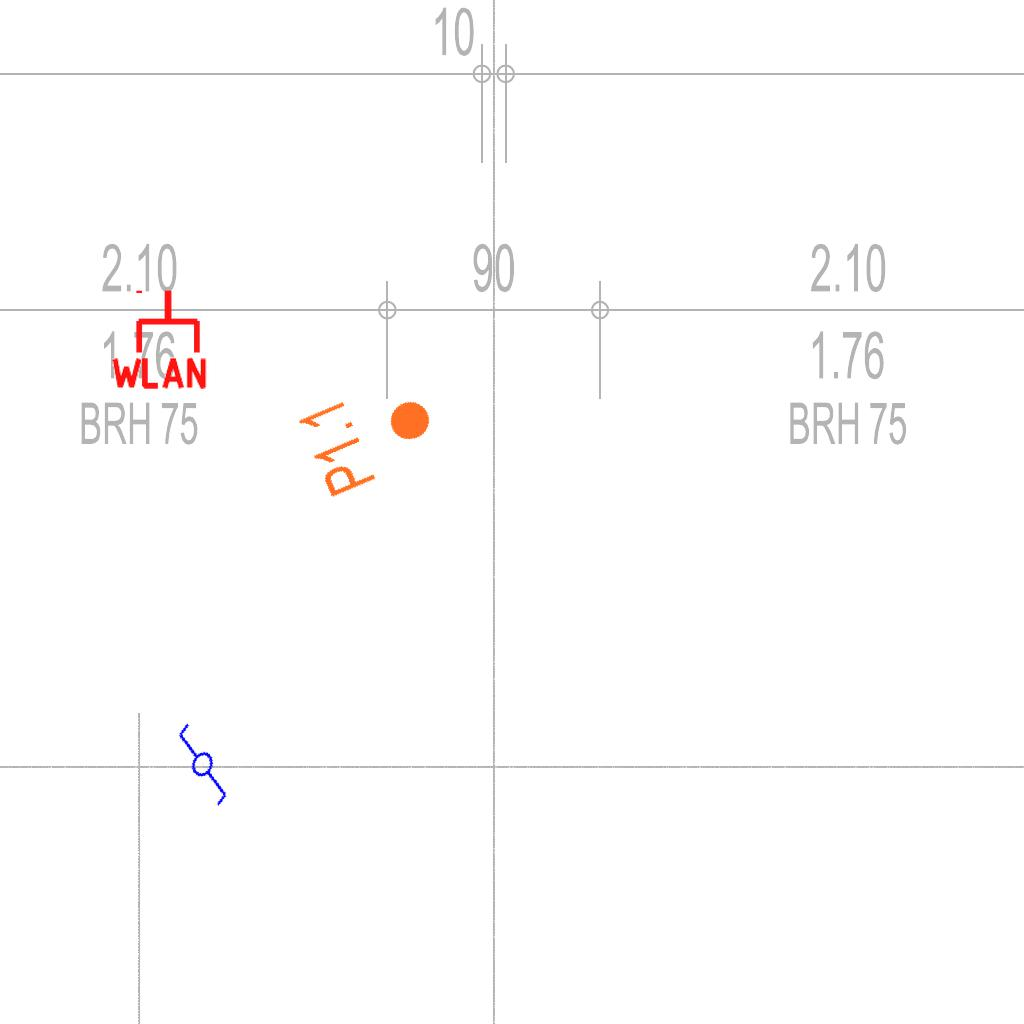Downlight_LED_Einbauleuchten_Flur: (293, 366, 448, 502)
WLAN: (107, 286, 211, 391)
Wechselschalter: (157, 711, 253, 811)
